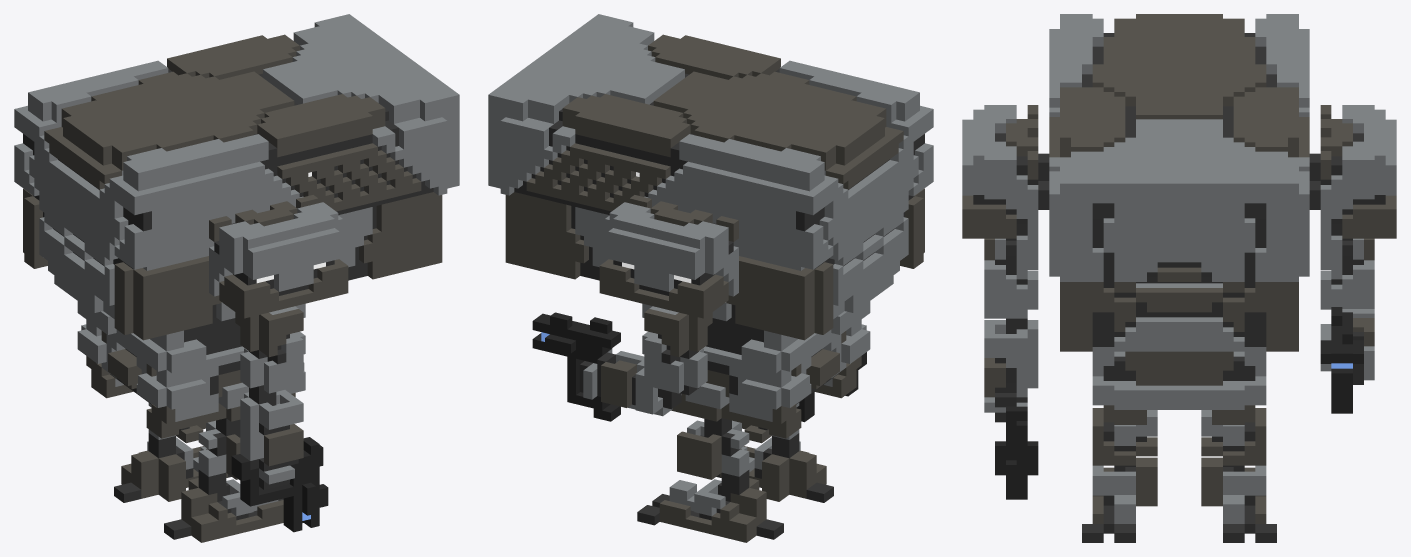
The model's file is mech_mecha01.glb.
3 views of the same model, side by side, from view 1: azimuth 30°, elevation 25°; view 2: azimuth 150°, elevation 25°; view 3: azimuth 270°, elevation 25° (orthographic). The views are drawn at different scales.
Visible parts, largest first — view 1: body; view 2: body; view 3: body.
Boxes of the visible parts, bbox=[...] form: body: bbox=[14, 14, 459, 542]; body: bbox=[488, 14, 933, 542]; body: bbox=[962, 14, 1396, 542].
Size of the model in its own units: 17.1 by 19.8 by 18.
Materials: 2 (2 with a texture image).
